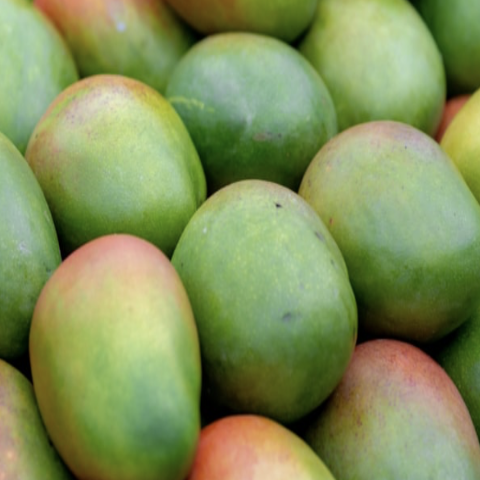mango: (153, 173, 370, 417), (14, 229, 221, 474), (296, 100, 480, 362), (155, 5, 347, 189)
